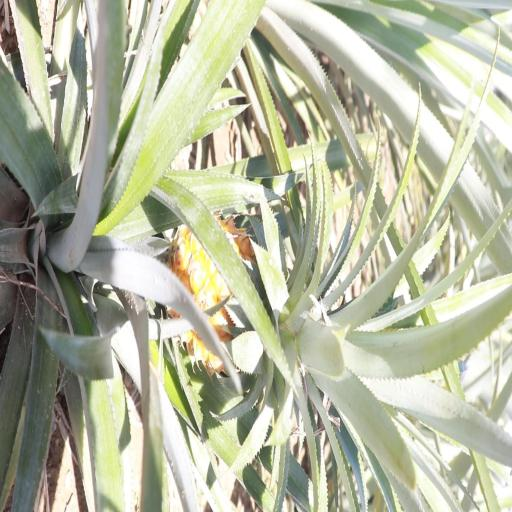Pineapple - v8 v1: (170, 220, 400, 394)
